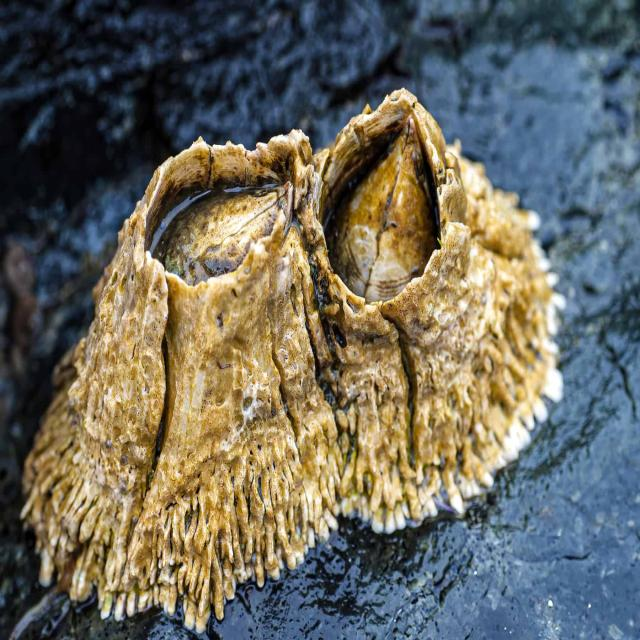barnacles: (24, 123, 314, 632), (308, 90, 568, 548)
